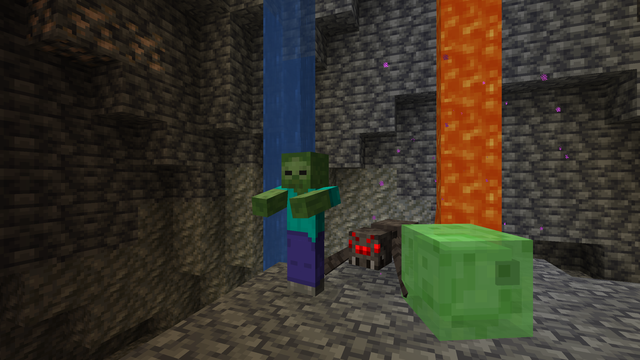araignees: (337, 214, 404, 294)
slimes: (411, 219, 526, 349)
zombies: (277, 155, 330, 301)
